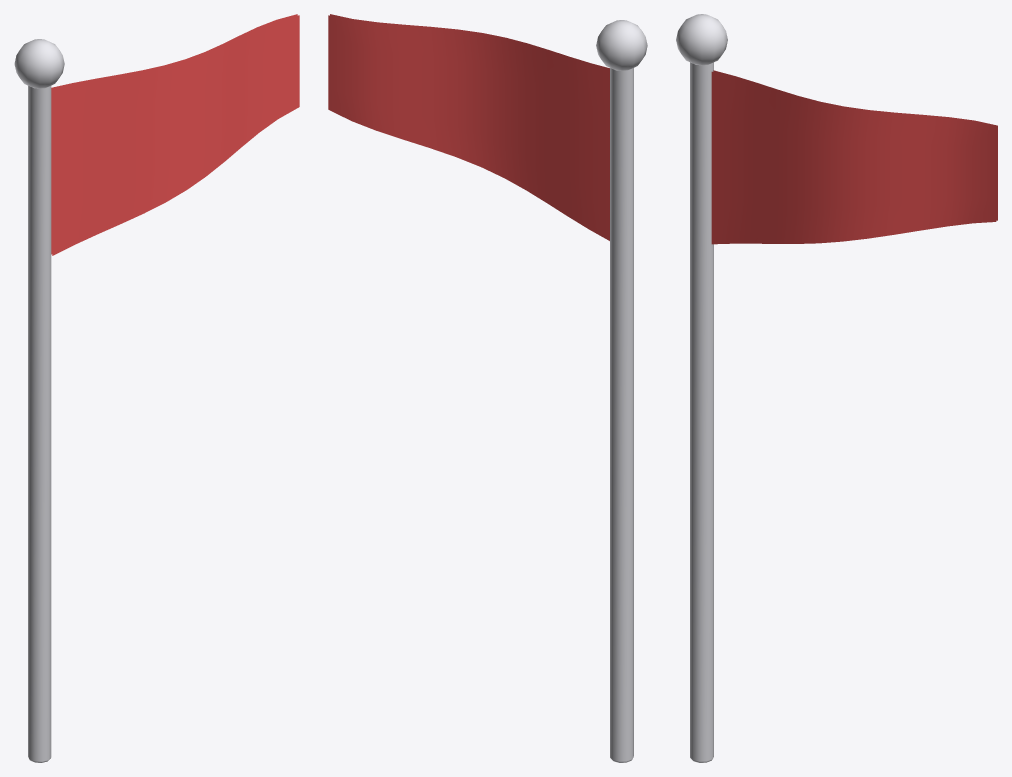
The model's file is BobsledFlag.obj.
3 renders of one model, left to right at view 1: azimuth 30°, elevation 25°; view 2: azimuth 150°, elevation 25°; view 3: azimuth 330°, elevation 25°, orthographic. The views are drawn at different scales.
Parts seen in each view (by area): view 1: Cloth, Pole; view 2: Cloth, Pole; view 3: Cloth, Pole.
Part boxes in pixels (x1,y1,x2,y2): Cloth: (51, 14, 299, 255); Pole: (14, 39, 64, 762); Cloth: (328, 14, 609, 240); Pole: (596, 20, 647, 762); Cloth: (711, 70, 997, 244); Pole: (676, 14, 727, 762).
Bounding box in the file's own units: 4.05 × 9.45 × 0.6329.
